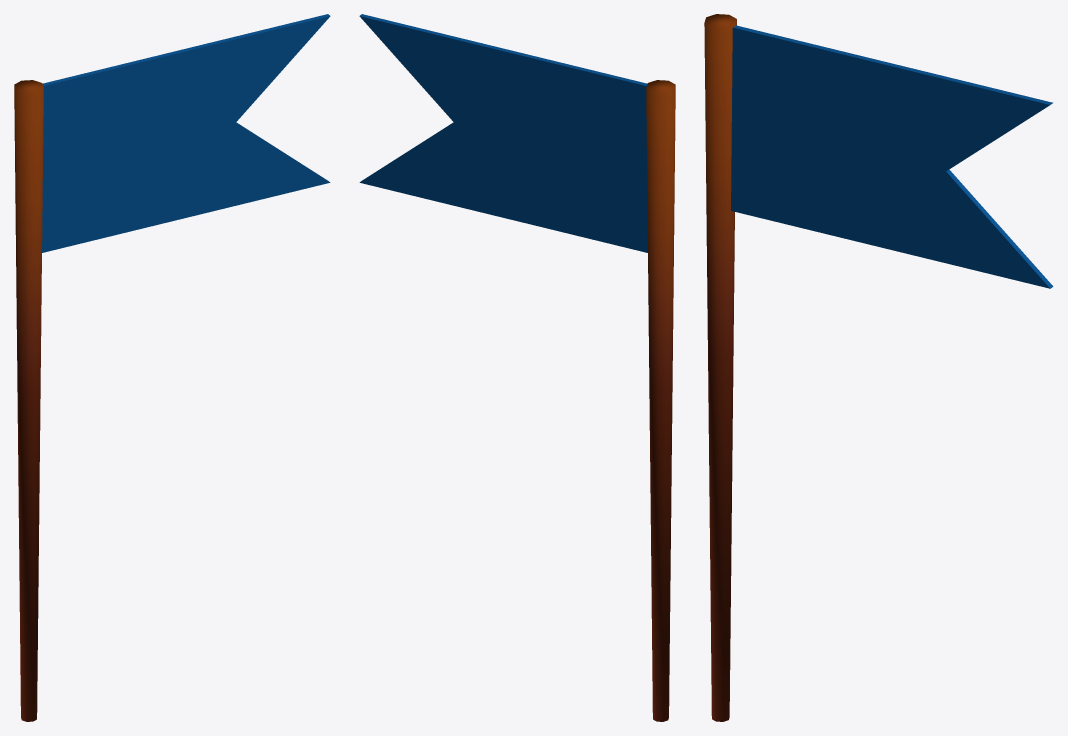
File: Skewer_01.001.fbx
3 views of the same model, side by side, from view 1: azimuth 30°, elevation 25°; view 2: azimuth 150°, elevation 25°; view 3: azimuth 330°, elevation 25° (orthographic). The views are drawn at different scales.
Visible parts, largest first — view 1: Skewer_01.001; view 2: Skewer_01.001; view 3: Skewer_01.001.
Part boxes in pixels (x1,y1,x2,y2): Skewer_01.001: (14, 14, 330, 721); Skewer_01.001: (359, 14, 675, 721); Skewer_01.001: (704, 14, 1053, 721).
Bounding box in the file's own units: 43.07 × 3.64 × 82.99.
